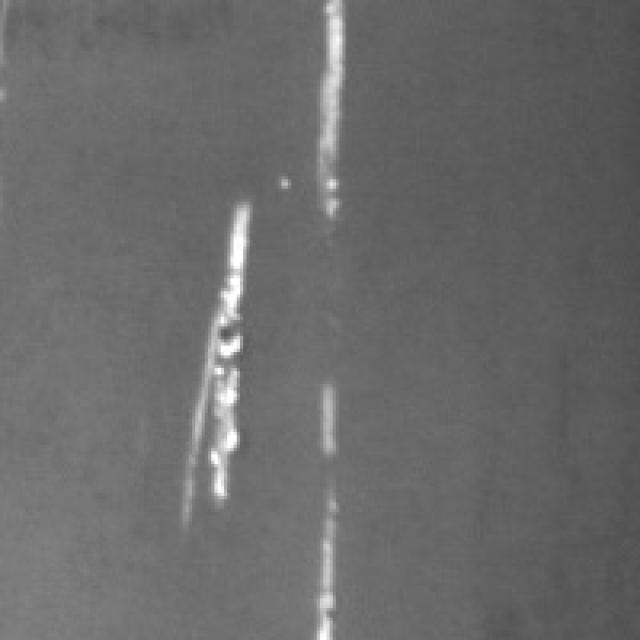scratches: (163, 192, 253, 502), (294, 378, 346, 634), (298, 0, 352, 221)
